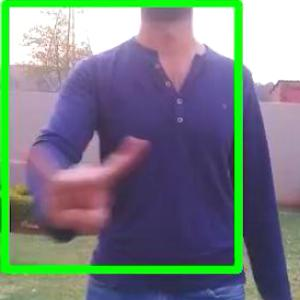takeoff-hand: (7, 122, 146, 235)
